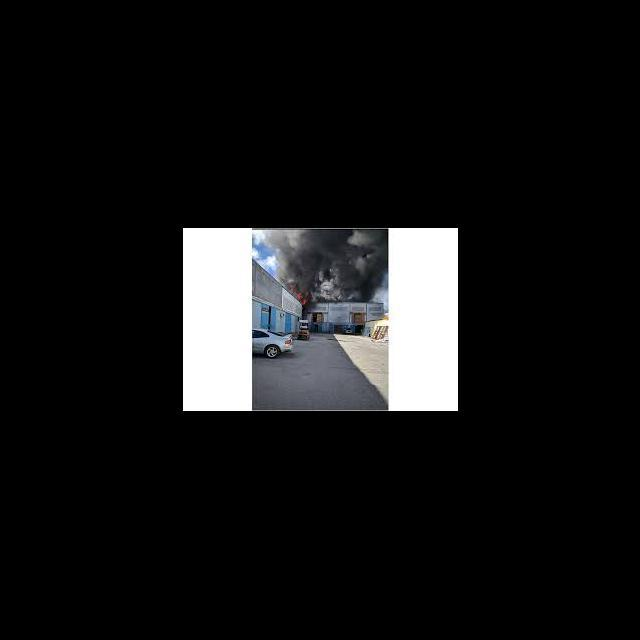Fire: (288, 285, 310, 304)
Smoke: (313, 230, 386, 300), (278, 230, 312, 282)
